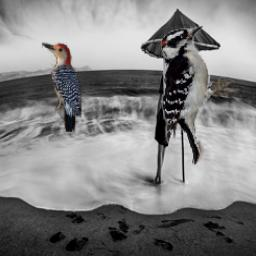Woodpecker: (160, 23, 240, 164), (42, 42, 82, 132)
